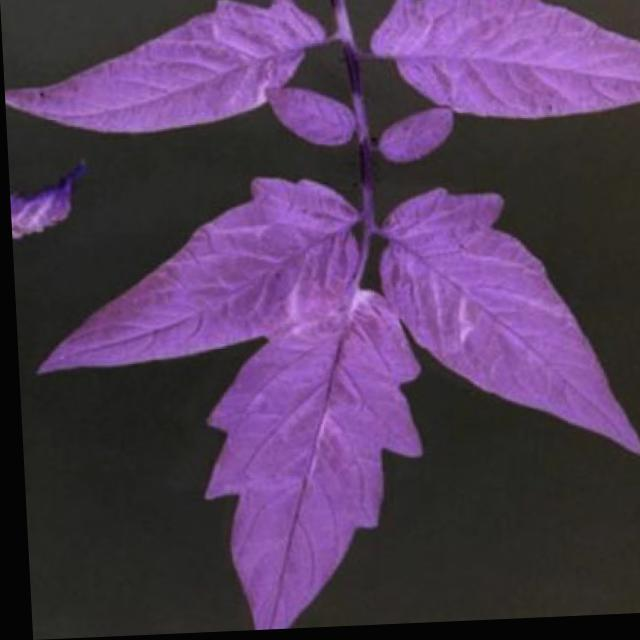Tomato bacterial spot leaf: (184, 287, 420, 632), (376, 196, 639, 480), (29, 180, 368, 377), (1, 0, 347, 150), (364, 0, 639, 138)
